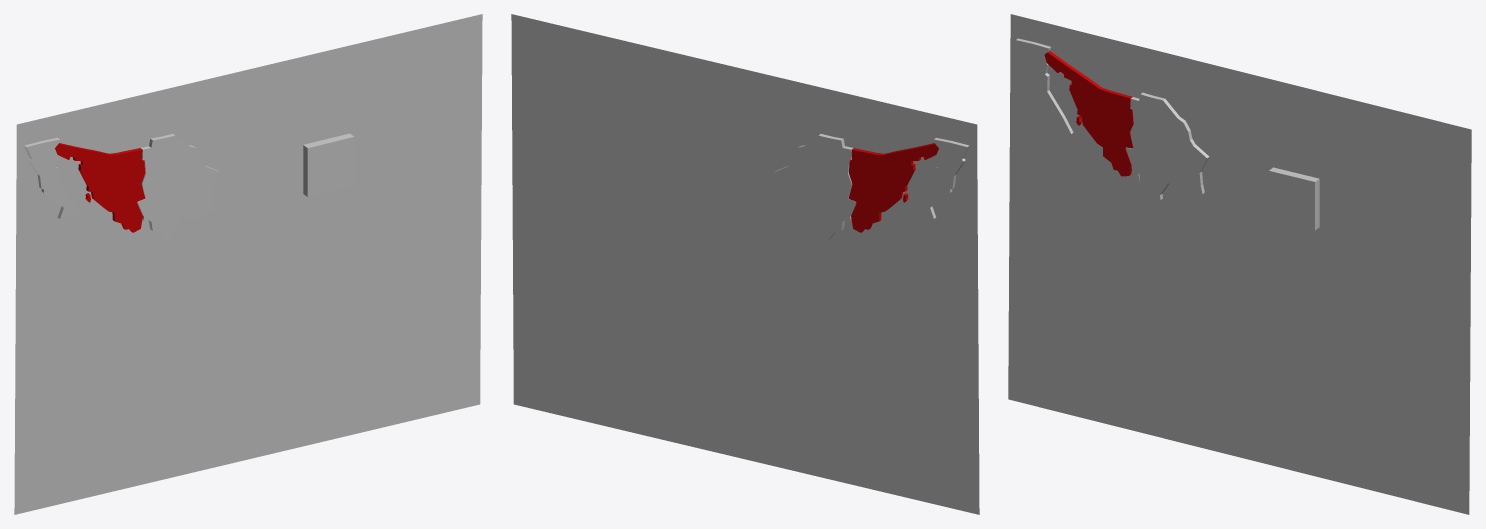
Rendered from mapa.obj.
3 renders of one model, left to right at view 1: azimuth 30°, elevation 25°; view 2: azimuth 150°, elevation 25°; view 3: azimuth 330°, elevation 25°, orthographic.
Visible parts, largest first — view 1: Plane, chihuahua_Cube.001, Sonora_Cube.003, state_template_Cube.002, state_template.001_Cube.004; view 2: Plane, chihuahua_Cube.001, Sonora_Cube.003, state_template.001_Cube.004; view 3: Plane, chihuahua_Cube.001, Sonora_Cube.003, state_template_Cube.002, state_template.001_Cube.004.
Part boxes in pixels (left/top/right/bottom): Plane: left=14, top=14, right=482, bottom=514; chihuahua_Cube.001: left=137, top=134, right=219, bottom=241; Sonora_Cube.003: left=55, top=143, right=145, bottom=232; state_template_Cube.002: left=303, top=133, right=354, bottom=196; state_template.001_Cube.004: left=24, top=138, right=82, bottom=218; Plane: left=511, top=14, right=979, bottom=514; chihuahua_Cube.001: left=774, top=134, right=856, bottom=241; Sonora_Cube.003: left=848, top=143, right=938, bottom=232; state_template.001_Cube.004: left=911, top=138, right=969, bottom=218; Plane: left=1008, top=14, right=1471, bottom=514; chihuahua_Cube.001: left=1125, top=92, right=1209, bottom=201; Sonora_Cube.003: left=1044, top=51, right=1133, bottom=176; state_template_Cube.002: left=1268, top=167, right=1319, bottom=230; state_template.001_Cube.004: left=1016, top=38, right=1073, bottom=133.
Size of the model in its own units: 50.25 by 40.32 by 3.26.
